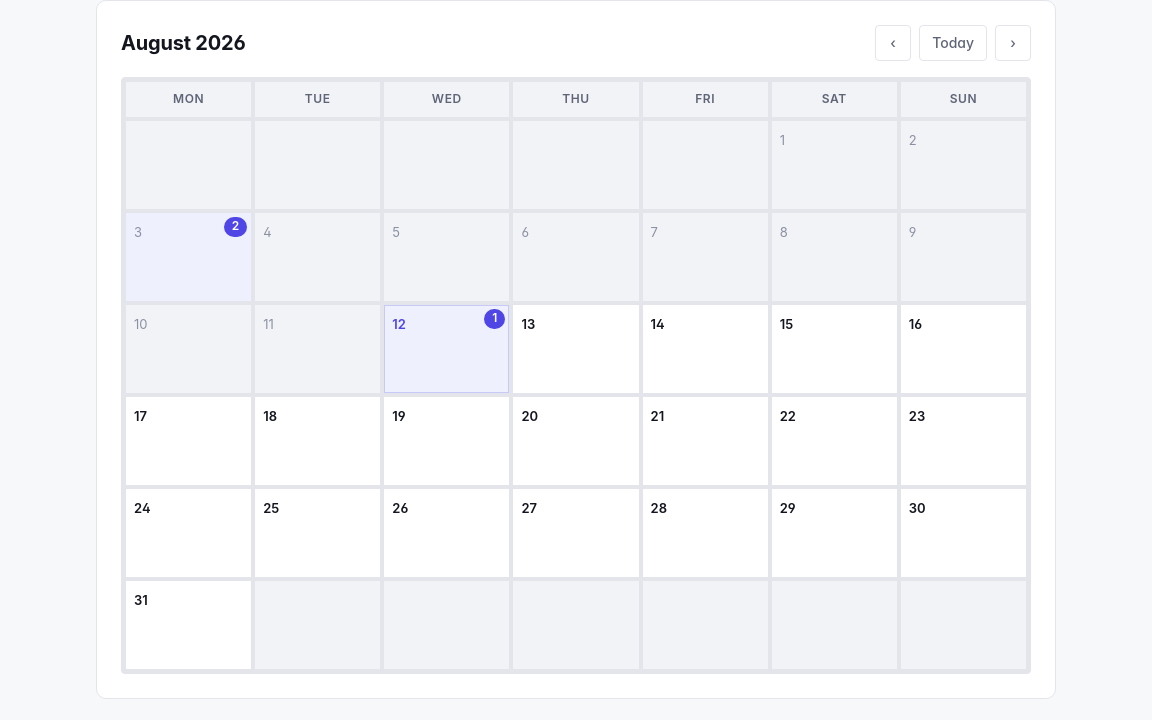
Scenario: Calendar page › walks to the neighbouring months and back to today
Click the button named "Previous month".
click(893, 43)  # box [875,25,911,61]
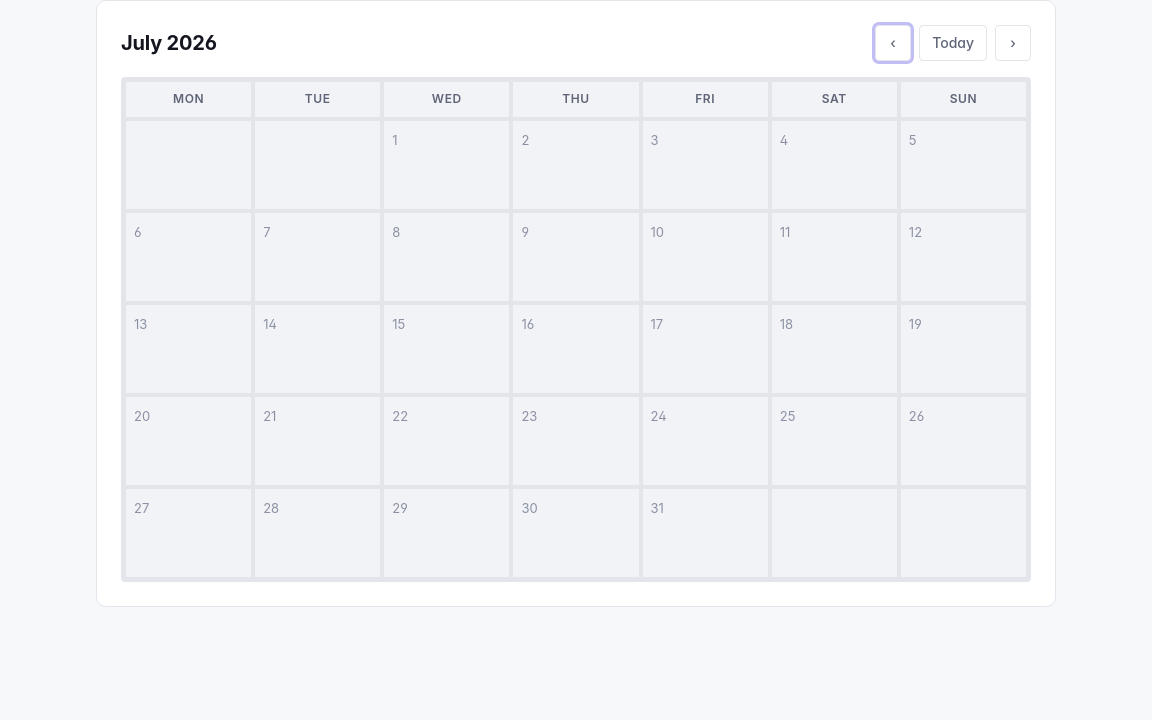
Check: the heading "July 2026" is shown, box [121,30,217,56]
Click the button named "Next month".
click(1013, 43)  # box [995,25,1031,61]
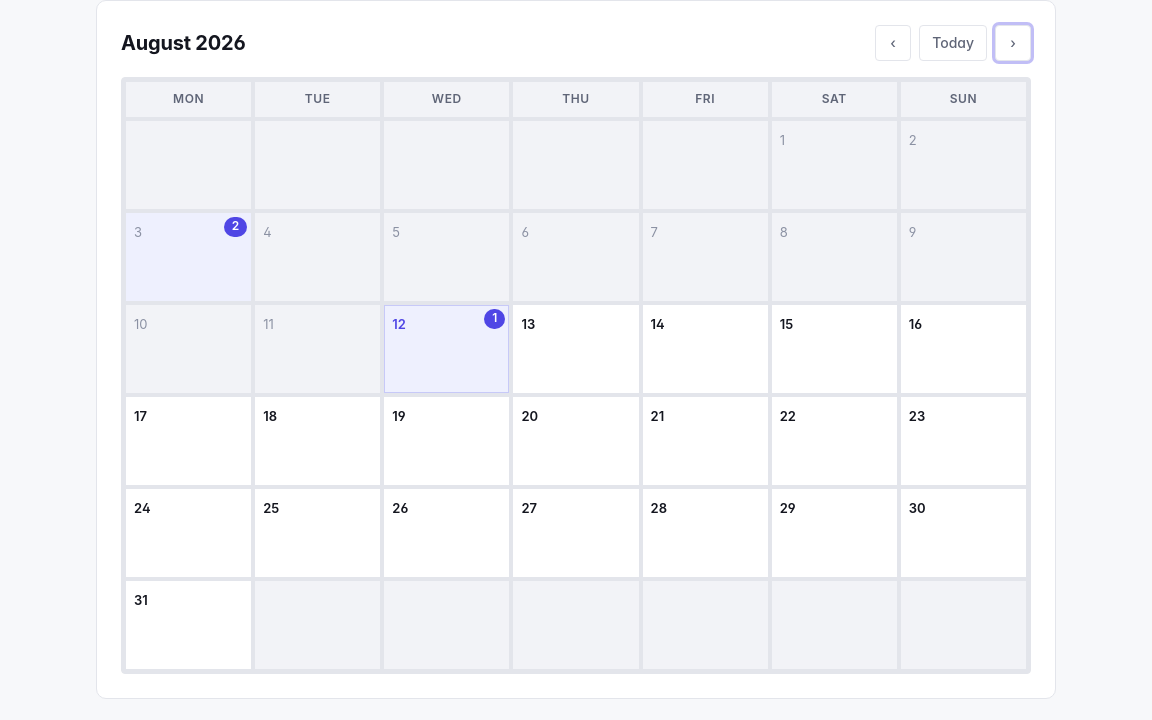
Click the button named "Next month".
click(1013, 43)  # box [995,25,1031,61]
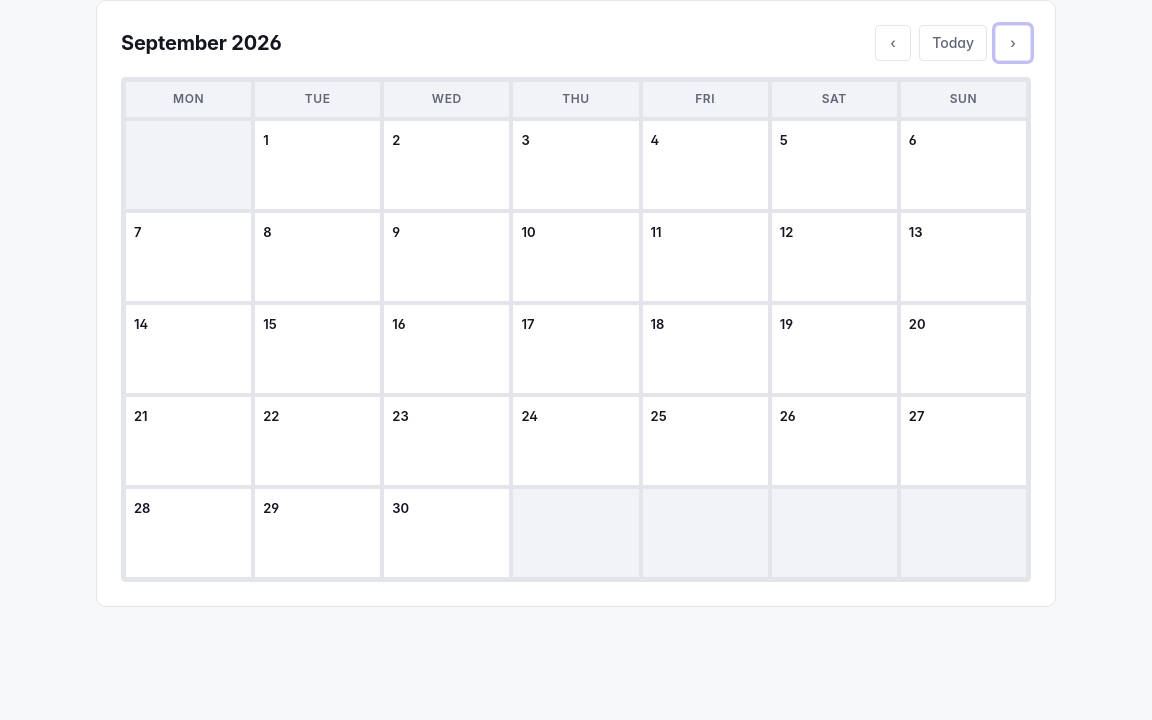
Click the button "Today".
click(953, 43)  # box [919,25,987,61]
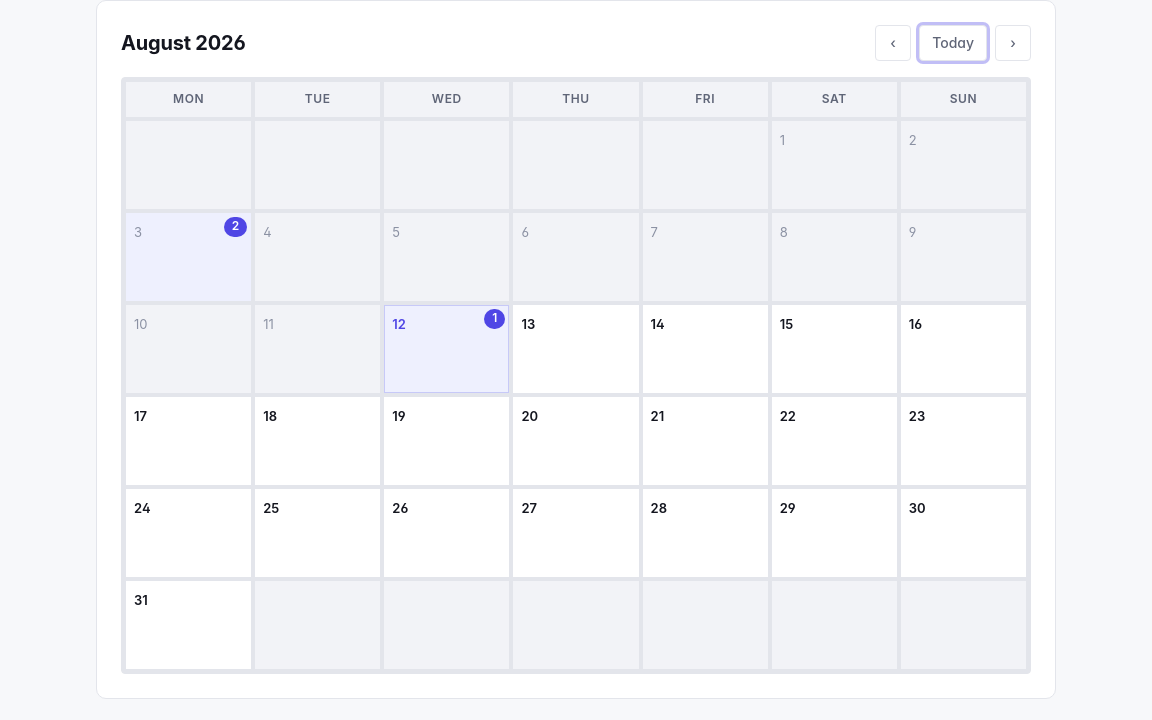
Check: the heading "August 2026" is shown, box [121,30,246,56]
